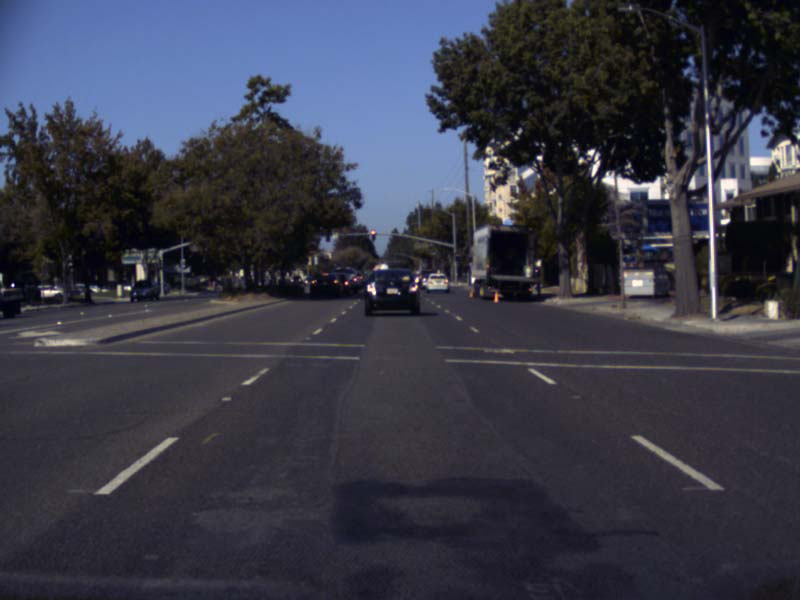Red: (370, 230, 375, 241), (454, 252, 459, 260)
